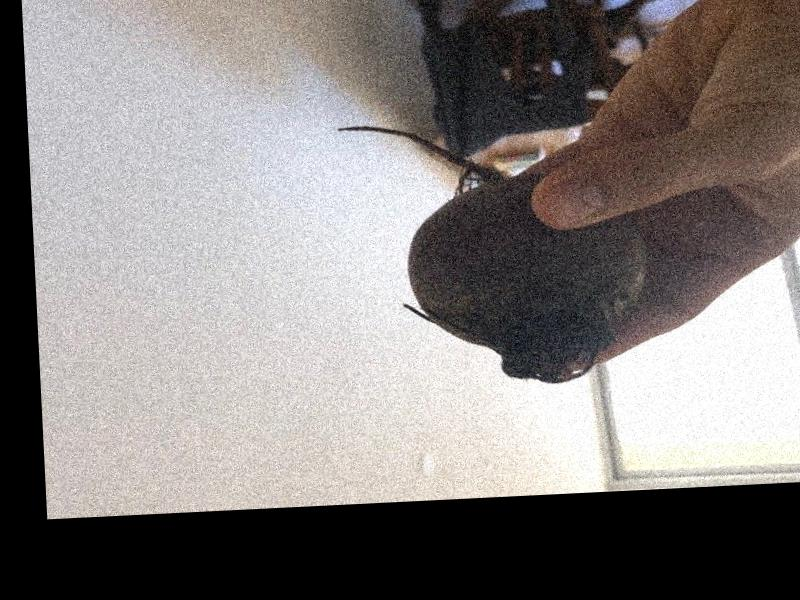Beet: (335, 113, 651, 394)
